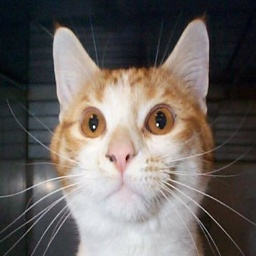cat: (36, 17, 226, 256)
